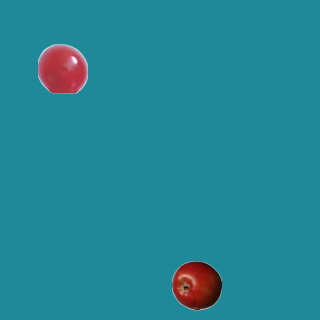Apple Braeburn: (171, 260, 221, 310)
Redcurrant: (37, 43, 87, 93)
